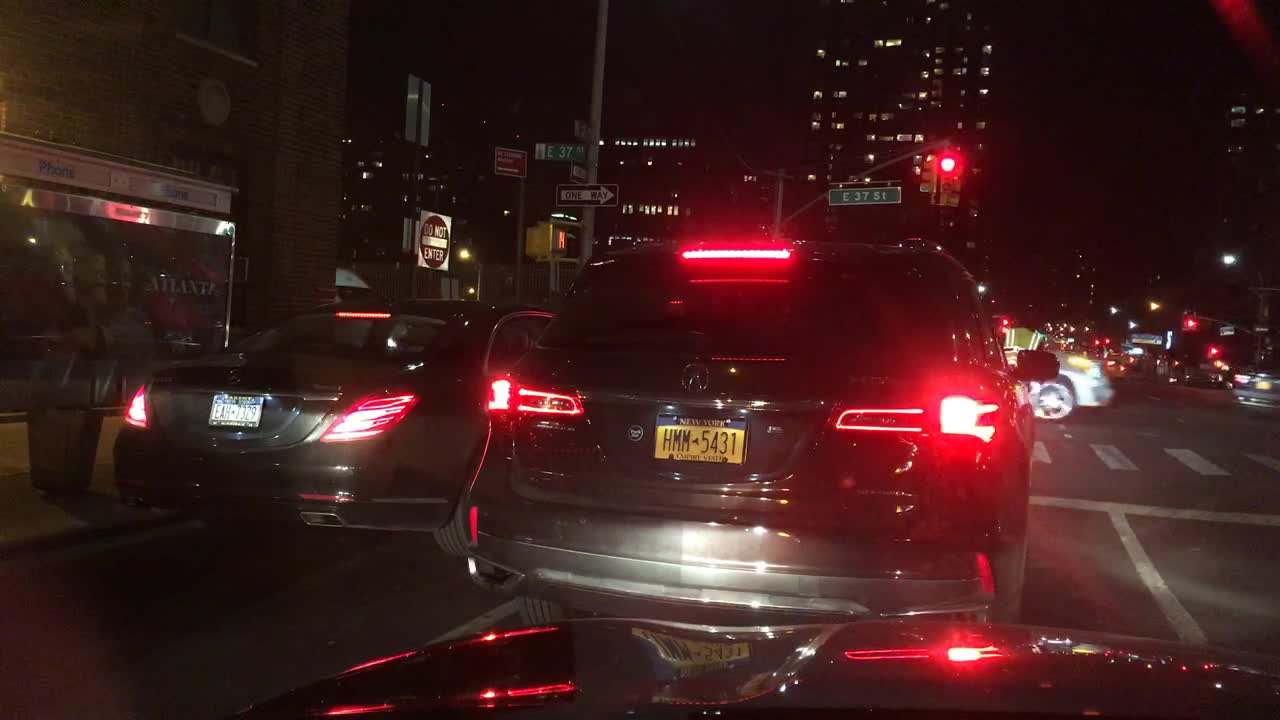car: (469, 230, 1065, 641), (110, 291, 518, 557), (1006, 345, 1117, 420), (1227, 360, 1280, 411), (1105, 359, 1129, 383), (1112, 351, 1145, 368), (1071, 342, 1095, 359)
traffic light: (936, 150, 959, 204), (527, 224, 564, 254), (917, 150, 936, 191), (1000, 314, 1009, 333), (1186, 314, 1192, 333), (1103, 336, 1109, 348), (1211, 345, 1215, 360)
traffic sign: (414, 207, 452, 274), (489, 147, 530, 183), (828, 187, 900, 205), (558, 184, 616, 205), (533, 142, 589, 162), (1218, 325, 1234, 337)
